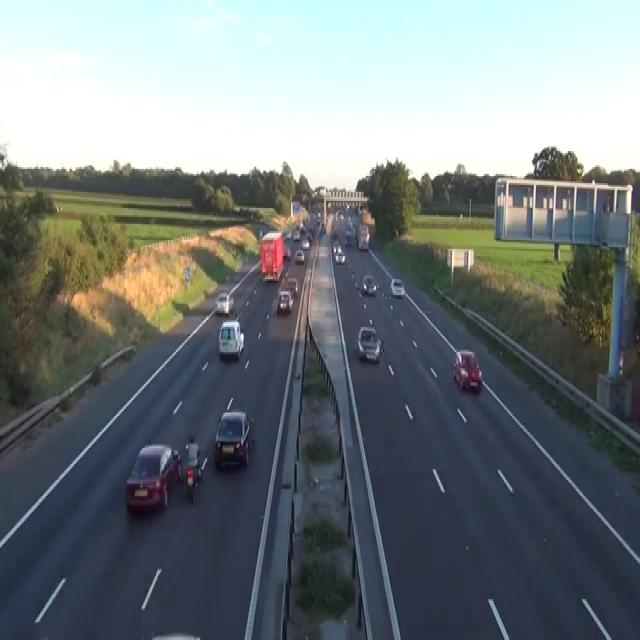Car: (124, 443, 181, 512), (213, 409, 254, 469), (182, 436, 206, 502), (452, 349, 482, 391), (218, 320, 244, 359), (357, 325, 381, 363), (140, 631, 201, 638), (214, 292, 233, 314), (276, 290, 293, 313), (362, 274, 377, 295), (390, 277, 404, 297), (287, 277, 298, 299), (344, 228, 354, 247), (334, 247, 345, 263), (294, 249, 304, 263), (283, 243, 291, 260), (292, 228, 300, 240), (378, 338, 384, 354), (332, 240, 340, 252), (301, 238, 309, 249), (306, 231, 313, 242), (299, 224, 306, 233), (258, 228, 264, 238), (285, 230, 291, 238)
Truck: (259, 229, 284, 281), (355, 222, 369, 251)
